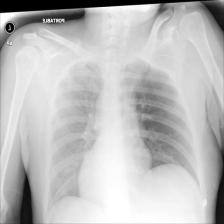normal: (47, 51, 202, 203)
